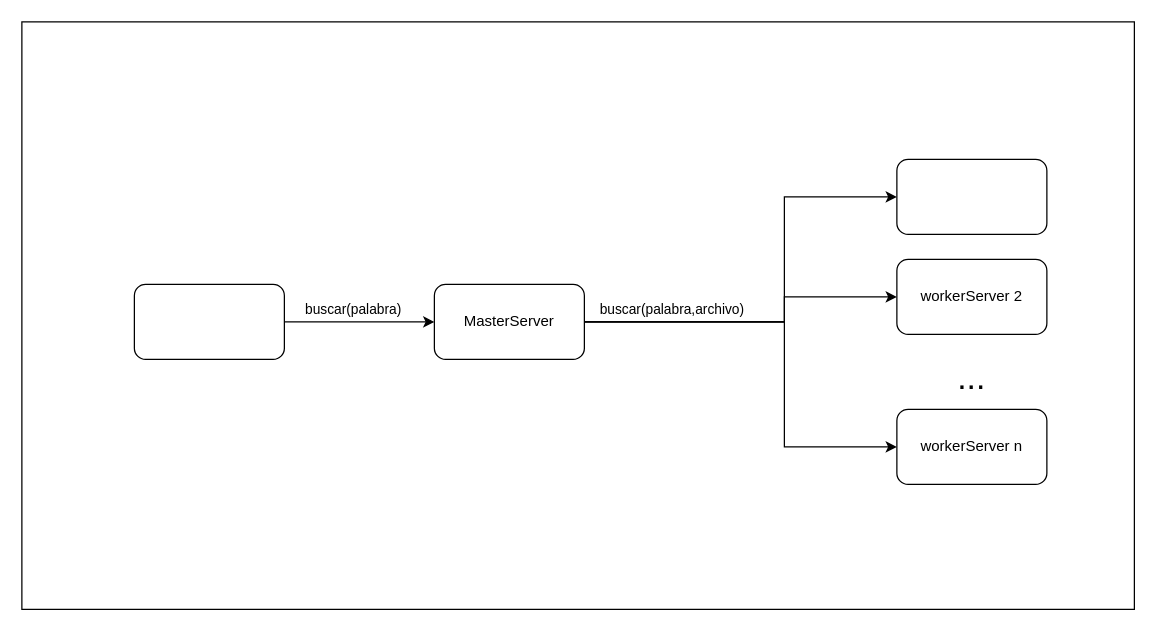
This 1156x631 diagram has some shape labels left out. The shapes that lost their labels are listed below. From the top down, each one's box as (x1, y1, x2, y2) in pixels, then its label:
(896, 158, 1047, 234): workerServer 1
(133, 283, 284, 359): PrincipalClient
